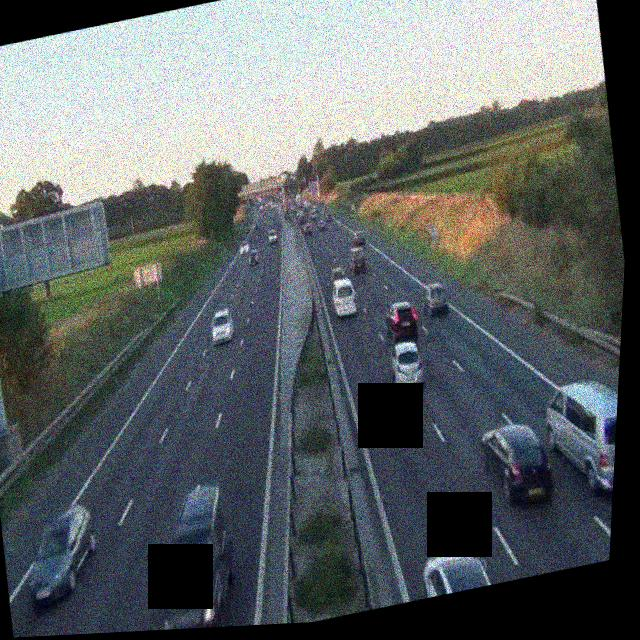car: (141, 477, 251, 631), (536, 369, 619, 508), (17, 502, 106, 612), (475, 415, 558, 512), (421, 545, 498, 599), (387, 339, 429, 393), (381, 296, 422, 347), (328, 272, 360, 318), (420, 281, 451, 317), (209, 306, 237, 344), (346, 246, 368, 276), (350, 229, 368, 250), (247, 246, 262, 267), (266, 229, 279, 245), (238, 240, 250, 254), (296, 211, 307, 226), (303, 222, 314, 236), (320, 215, 330, 230), (324, 209, 334, 223)
